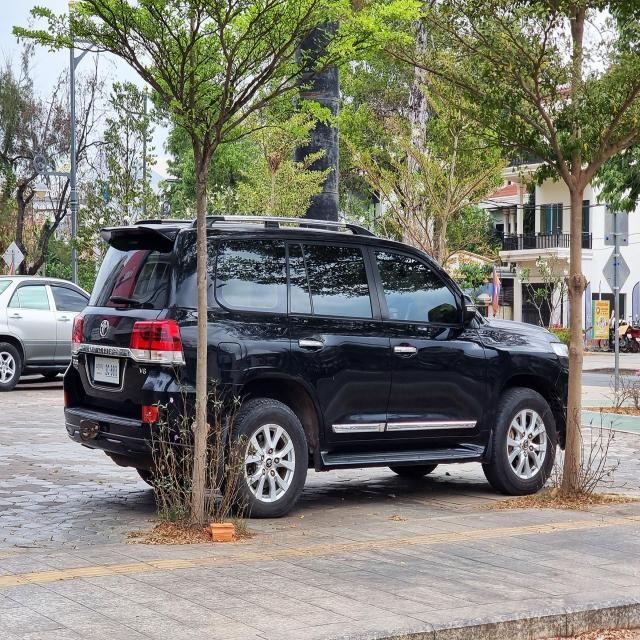Siem_Reap: (95, 361, 104, 372)
